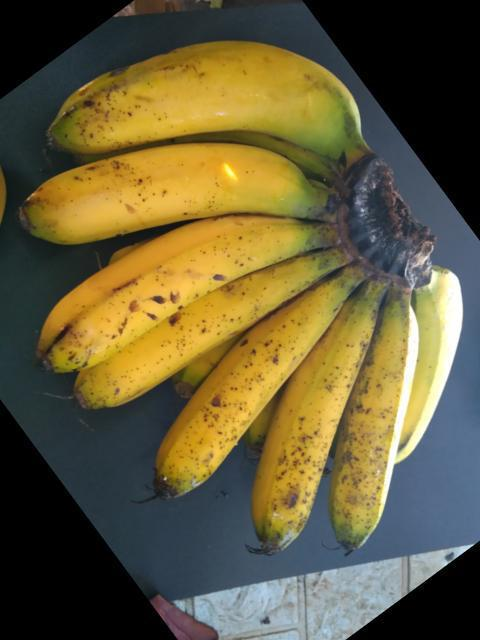ripe: (39, 26, 367, 155), (88, 225, 313, 407), (32, 208, 302, 357), (22, 122, 330, 246), (254, 318, 371, 553), (333, 298, 423, 558)
